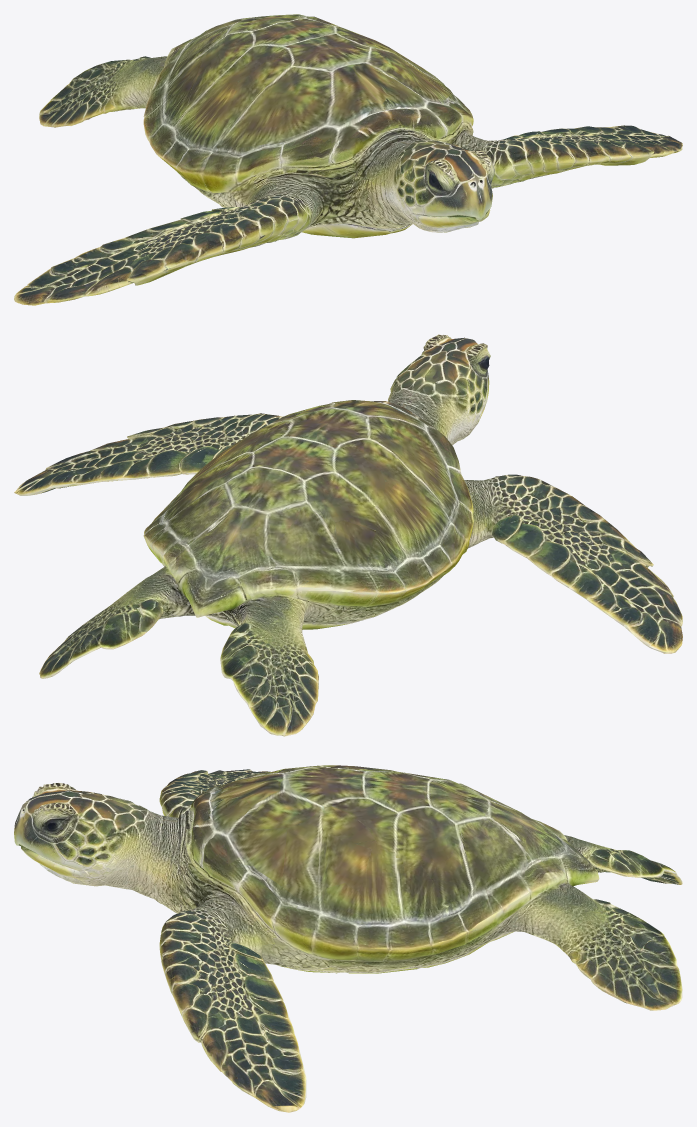
File: SM_SeaTurtle.glb
3 views of the same model, one above another, from view 1: azimuth 30°, elevation 25°; view 2: azimuth 150°, elevation 25°; view 3: azimuth 270°, elevation 25° (orthographic). The views are drawn at different scales.
Parts seen in each view (by area): view 1: Mesh_0; view 2: Mesh_0; view 3: Mesh_0.
Part boxes in pixels (x1,y1,x2,y2): Mesh_0: (14, 14, 682, 305); Mesh_0: (14, 334, 682, 736); Mesh_0: (14, 765, 682, 1112).
Bounding box in the file's own units: 1.9 × 0.4456 × 1.6.
1 material, 1 textured.
